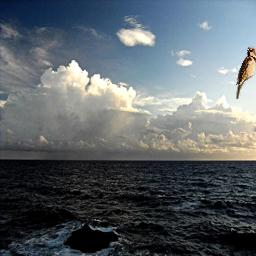Swallow: (236, 47, 256, 100)
